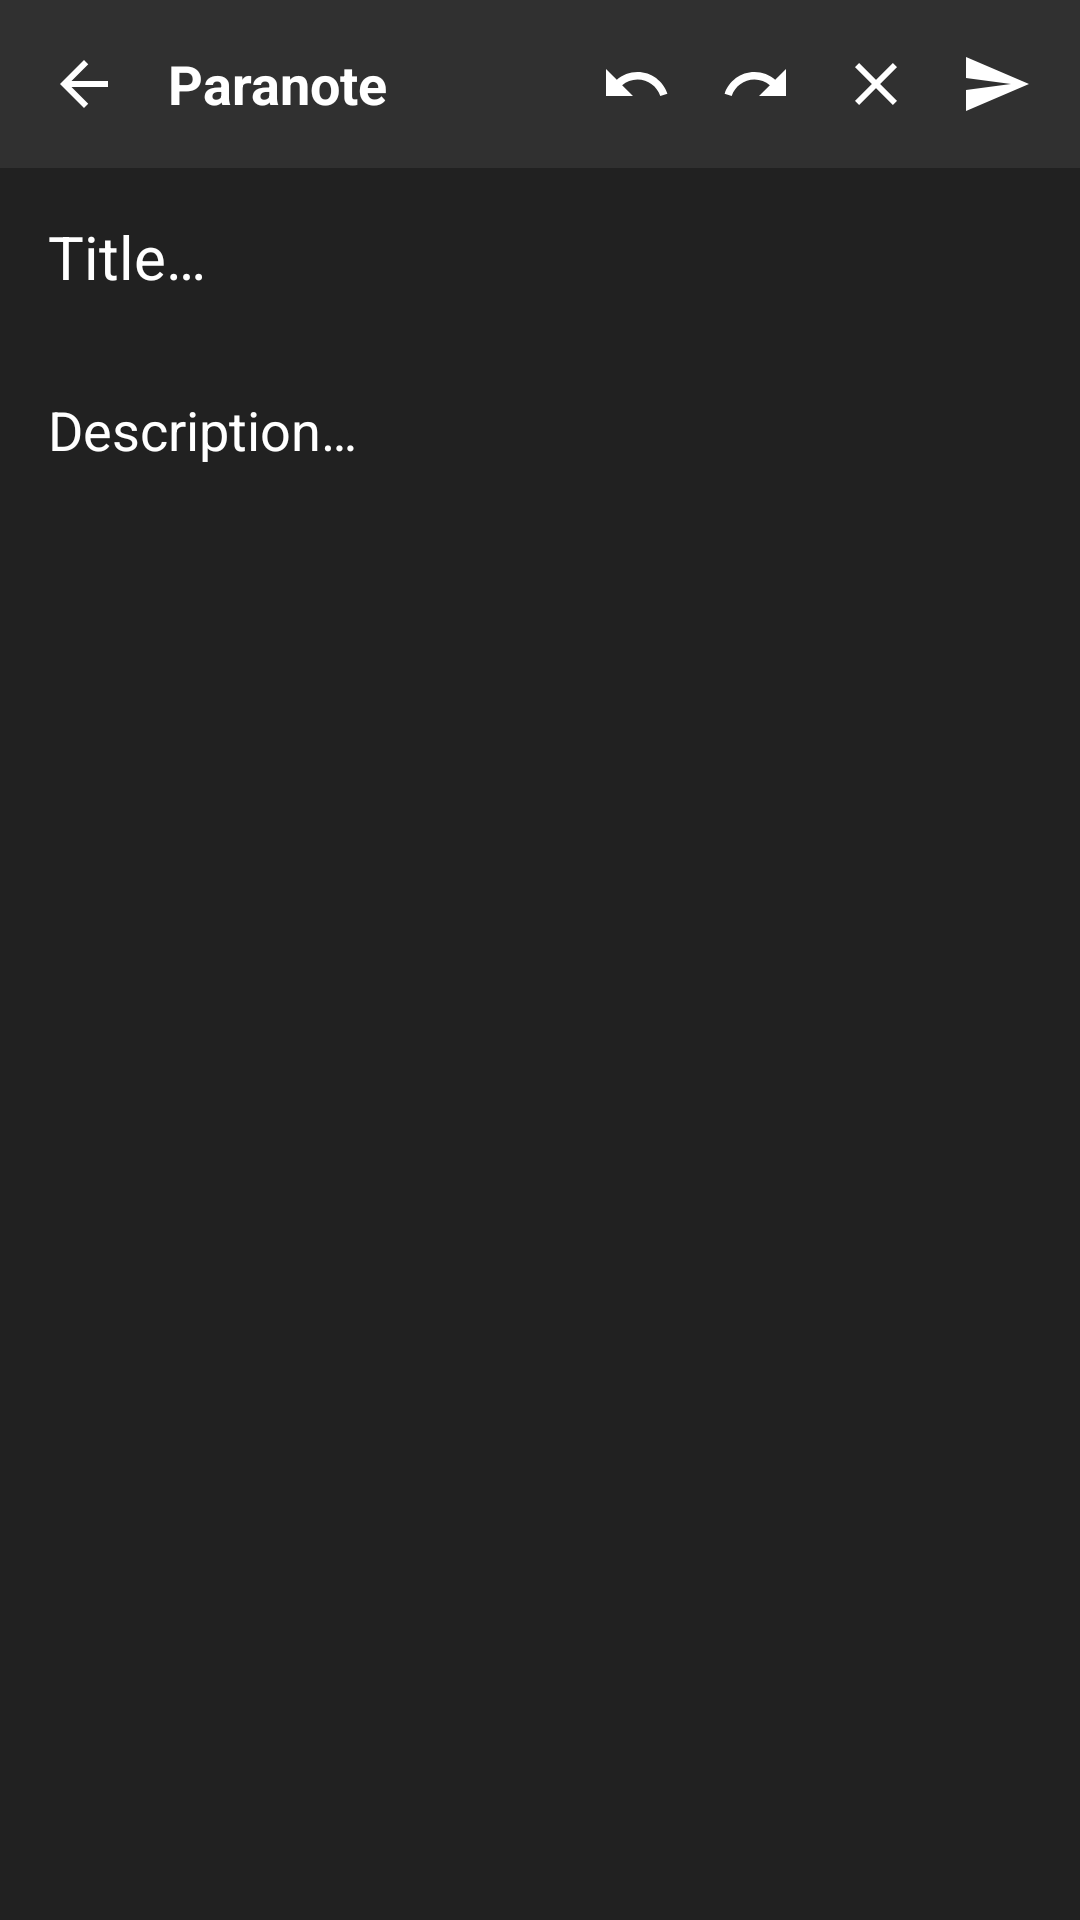

Icon click points for this 1080 × 1920 phone screenshot, format (x=x, y=y):
back: (x=84, y=84)
close: (x=876, y=84)
redo: (x=755, y=82)
send: (x=997, y=84)
undo: (x=637, y=82)
